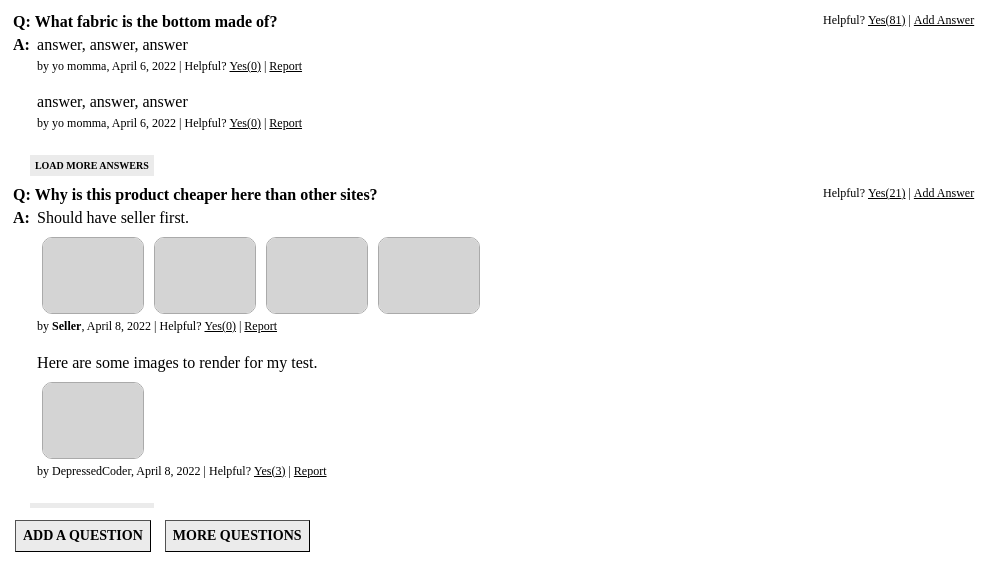
<QuestionsList /> › renders two more QuestionCards when MoreAnsweredQuestionsButton is clicked
This screenshot has width=992, height=569.
Click the button with test id "moreAnsweredQuestionsButton".
click(237, 536)  # box top-left (165, 520), bottom-right (310, 552)
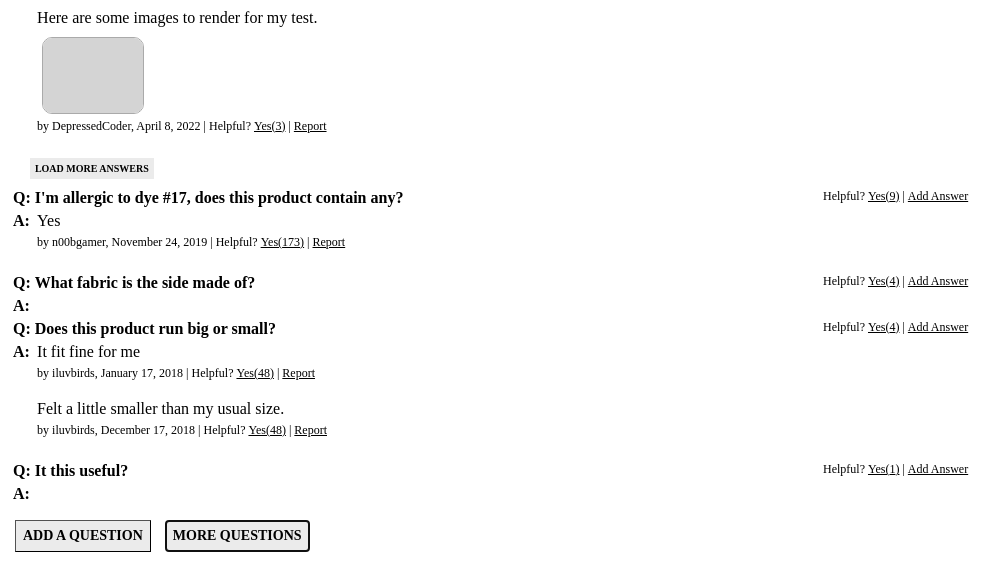
Result: the element with test id "QuestionCard2" is shown at top-left (13, 189), bottom-right (968, 250)
Result: the element with test id "QuestionCard3" is shown at top-left (13, 274), bottom-right (968, 314)
Result: the element with test id "QuestionCard4" is shown at top-left (13, 320), bottom-right (968, 438)
